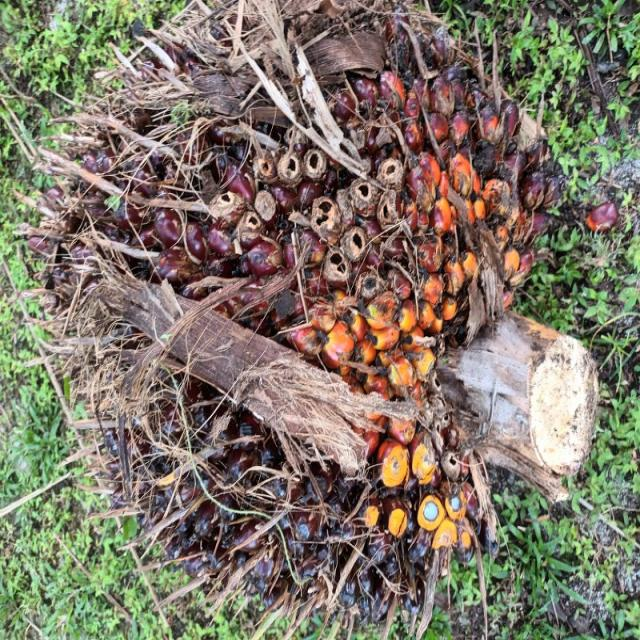fraksi 1: (14, 15, 480, 640)
